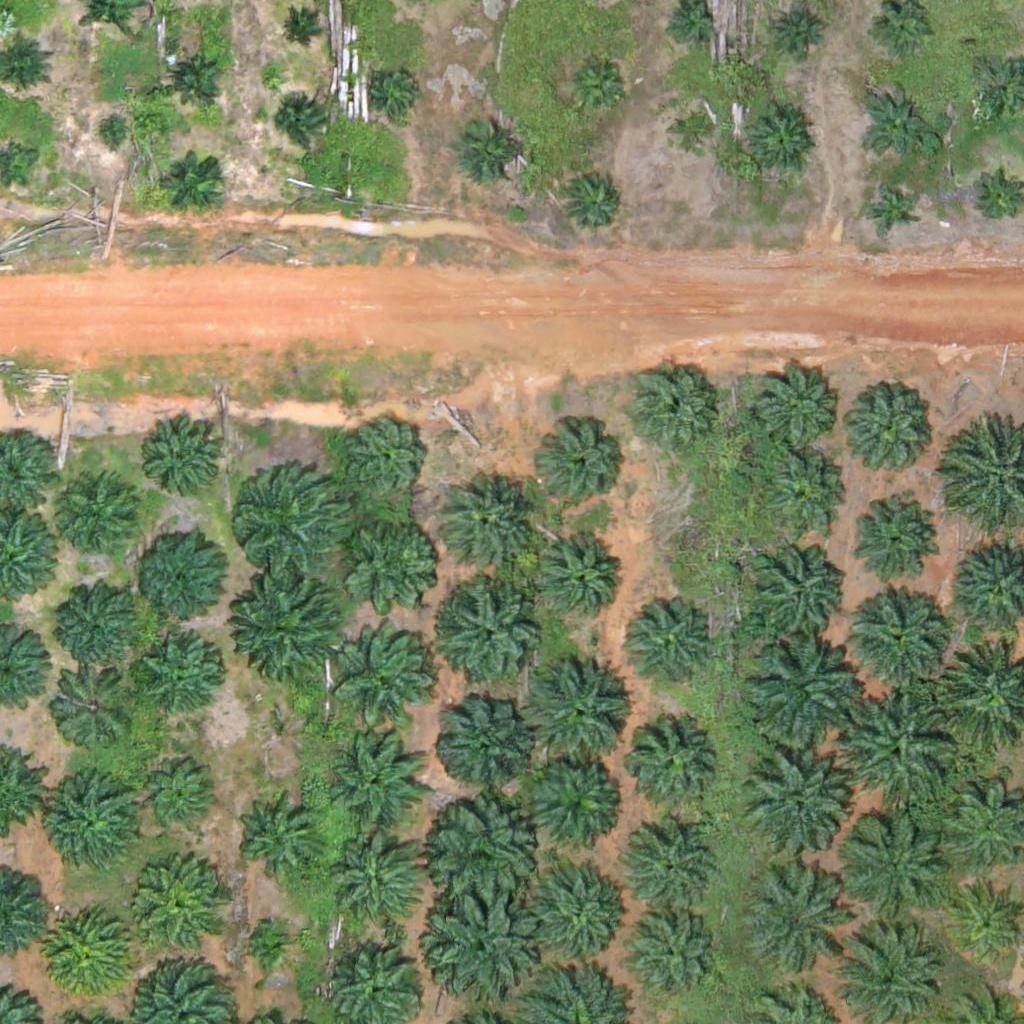Kelapa_Sawit: (230, 460, 355, 586), (422, 892, 535, 1005), (837, 805, 949, 919), (743, 637, 855, 751), (842, 696, 954, 809), (518, 653, 630, 766), (435, 581, 547, 694), (428, 800, 540, 913), (838, 377, 938, 478), (738, 869, 838, 970), (614, 597, 714, 698), (619, 818, 719, 919), (620, 907, 720, 1008), (529, 859, 629, 960), (521, 751, 621, 852), (437, 473, 537, 574), (329, 836, 429, 937), (324, 730, 424, 831), (339, 627, 439, 728), (242, 578, 342, 679), (851, 587, 951, 687), (742, 756, 842, 856), (747, 540, 847, 640), (623, 712, 723, 812), (433, 693, 533, 793), (46, 778, 146, 878), (343, 505, 443, 605), (845, 493, 933, 581), (627, 362, 715, 450), (530, 533, 618, 621), (47, 909, 135, 997), (133, 867, 221, 955), (135, 533, 222, 622), (54, 579, 141, 667), (765, 448, 852, 536), (753, 365, 840, 453), (540, 422, 627, 510), (49, 660, 136, 748), (57, 471, 144, 559), (143, 414, 230, 502), (140, 641, 227, 729), (344, 418, 431, 506), (234, 791, 321, 879), (454, 112, 529, 188), (145, 757, 220, 832), (743, 102, 818, 177), (859, 84, 934, 159), (165, 149, 228, 212), (164, 44, 227, 107), (564, 172, 627, 235), (564, 54, 627, 117), (973, 176, 1023, 227), (777, 5, 827, 56), (866, 185, 916, 236), (274, 99, 324, 149), (374, 66, 424, 116), (247, 916, 297, 966), (668, 107, 718, 157), (92, 115, 130, 153), (278, 12, 315, 50)
